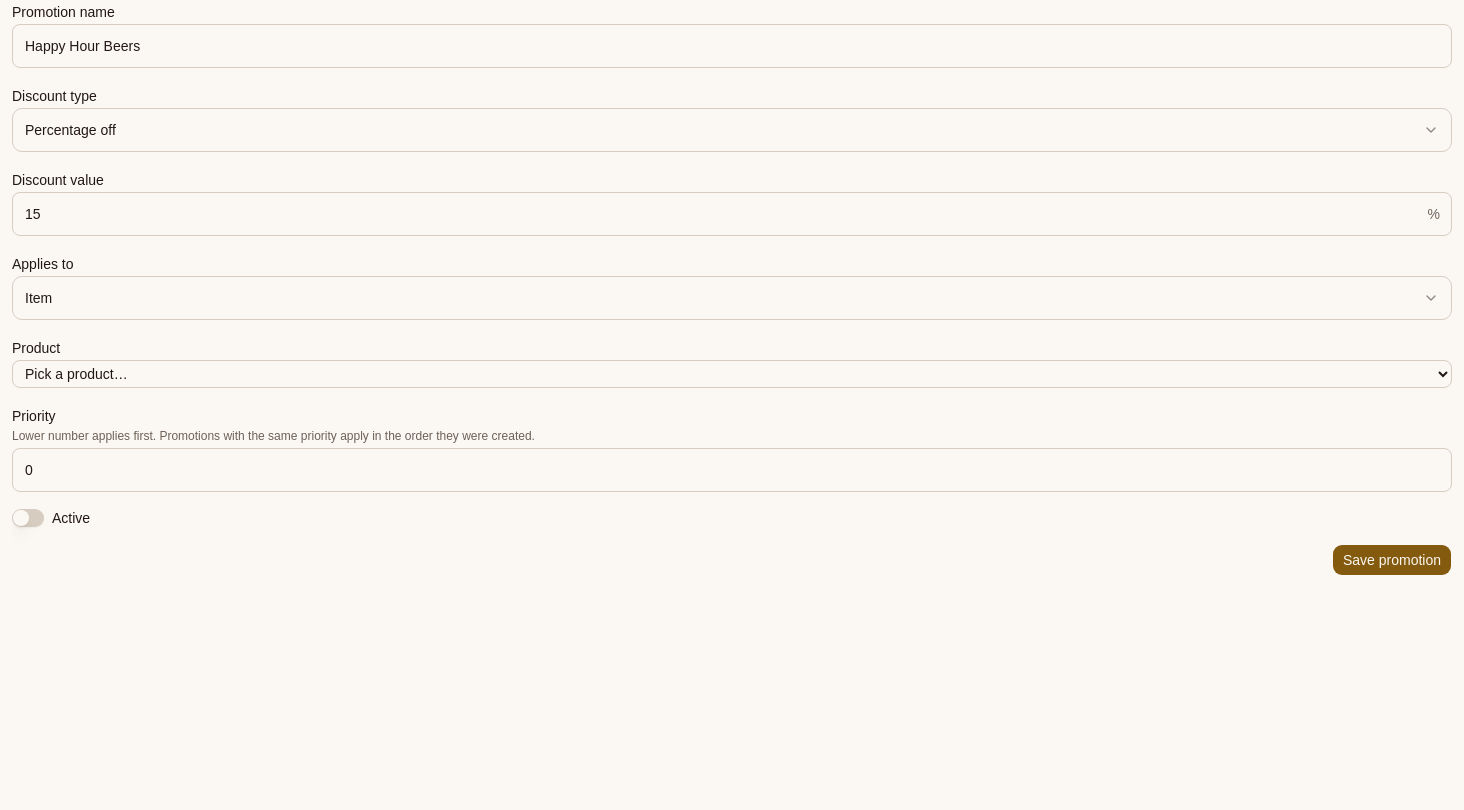
Test: PromotionBuilderForm › switching discount type from percentage to fixed_amount swaps the input and clears the stale value
Expected: the number field showing "15" is shown, [12,192,1452,236]
Click the dropdown named "Discount type" at (70, 130), box [12,108,1452,152]
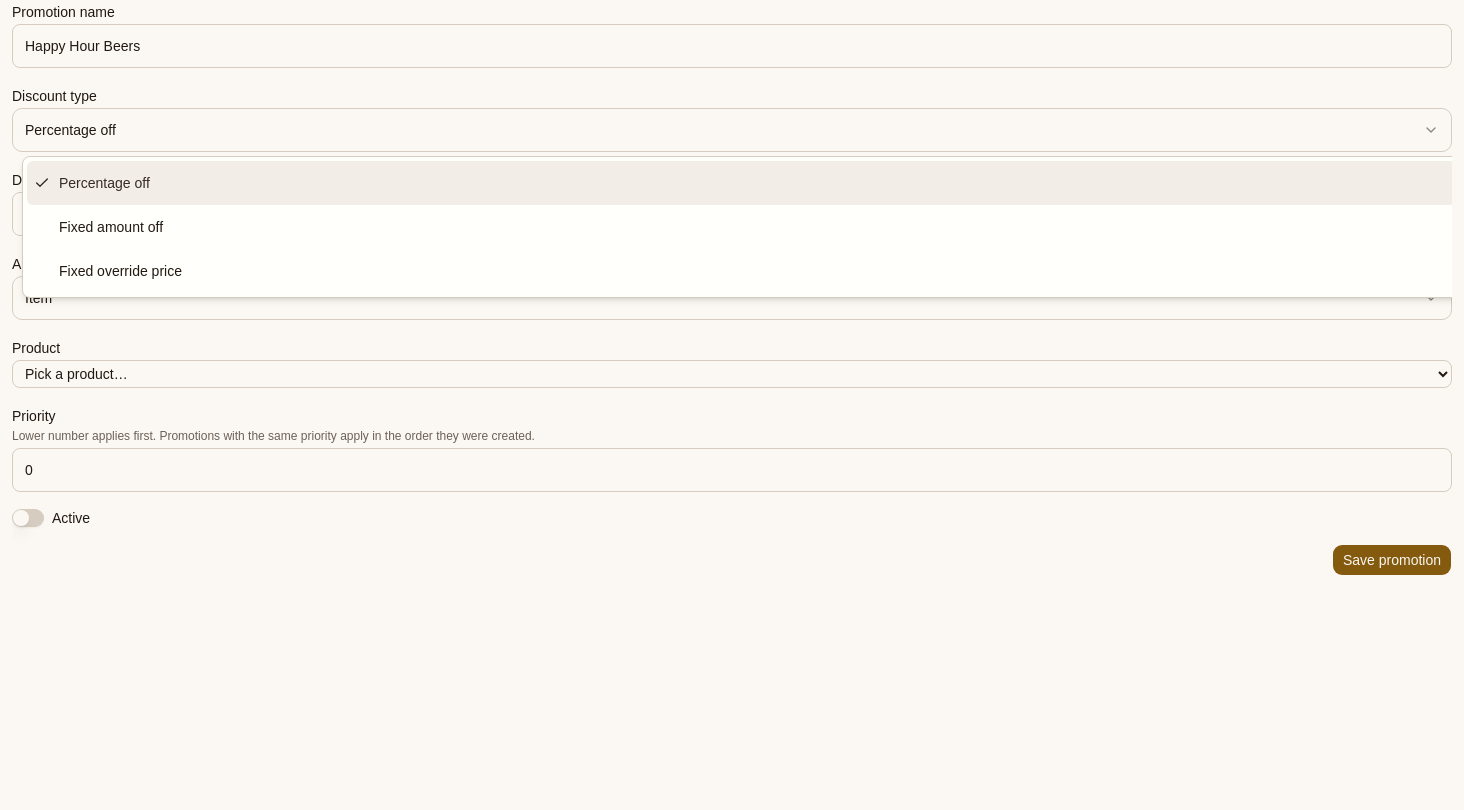
Click the option "Fixed amount off" at (111, 227), box [59,219,163,235]
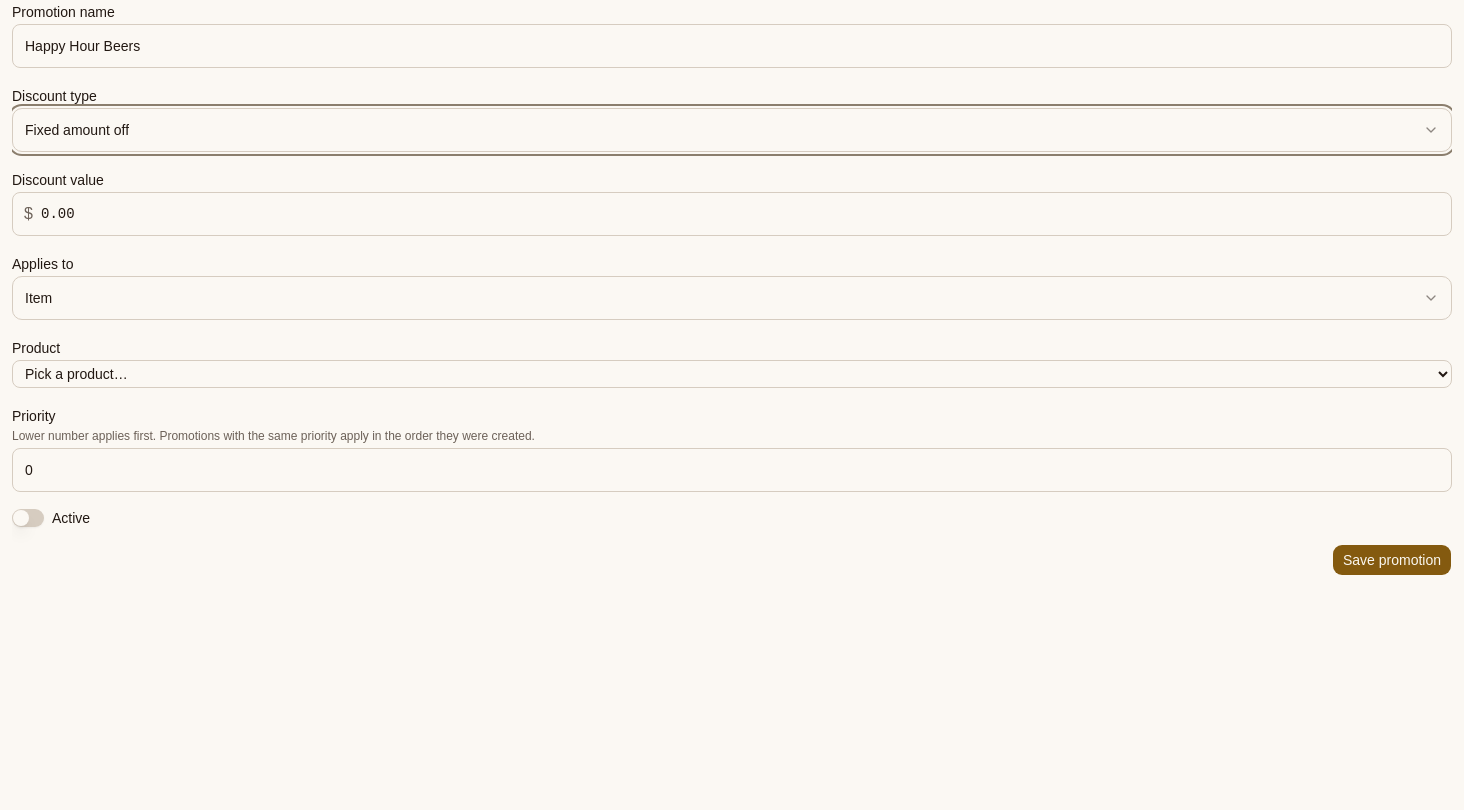
Expected: the field showing "15" is not shown
Result: the field showing "0.00" is shown at [12,192,1452,236]
